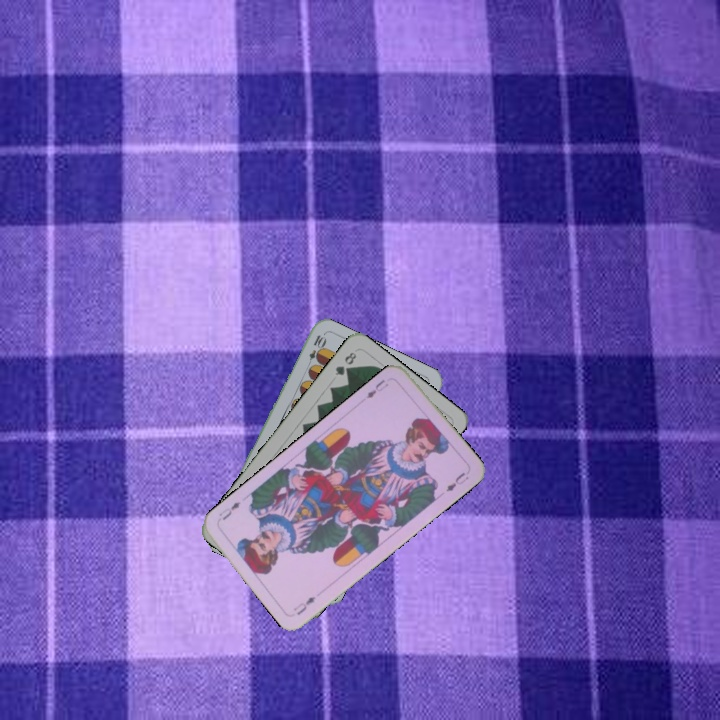E10: (303, 331, 327, 370)
EU: (362, 375, 391, 401), (289, 592, 318, 618)
G8: (331, 348, 359, 378)
